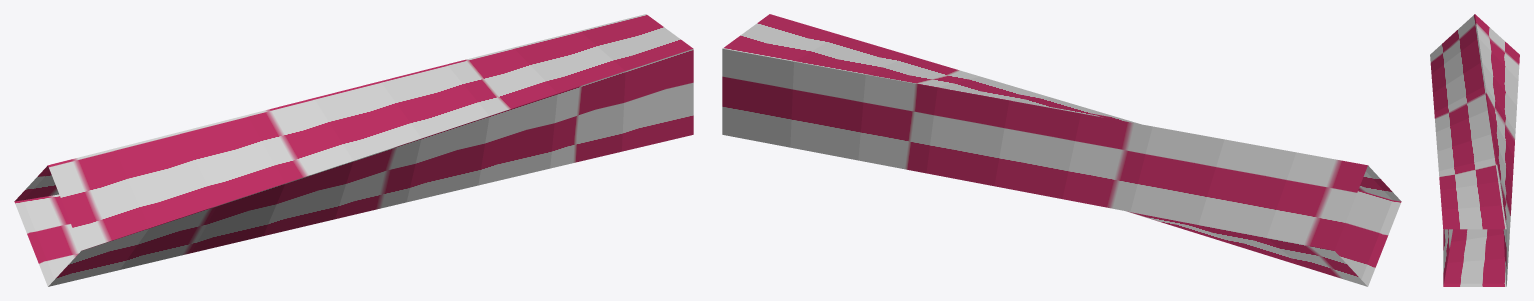
The model's file is hallway.fbx.
3 renders of one model, left to right at view 1: azimuth 30°, elevation 25°; view 2: azimuth 150°, elevation 25°; view 3: azimuth 270°, elevation 25°, orthographic. The views are drawn at different scales.
Parts seen in each view (by area): view 1: Cube.006; view 2: Cube.006; view 3: Cube.006.
Boxes of the visible parts, x1=… form: Cube.006: x1=14, y1=14, x2=693, y2=286; Cube.006: x1=722, y1=14, x2=1401, y2=286; Cube.006: x1=1430, y1=14, x2=1519, y2=286.
Size of the model in its own units: 48082 by 8988 by 8988.
